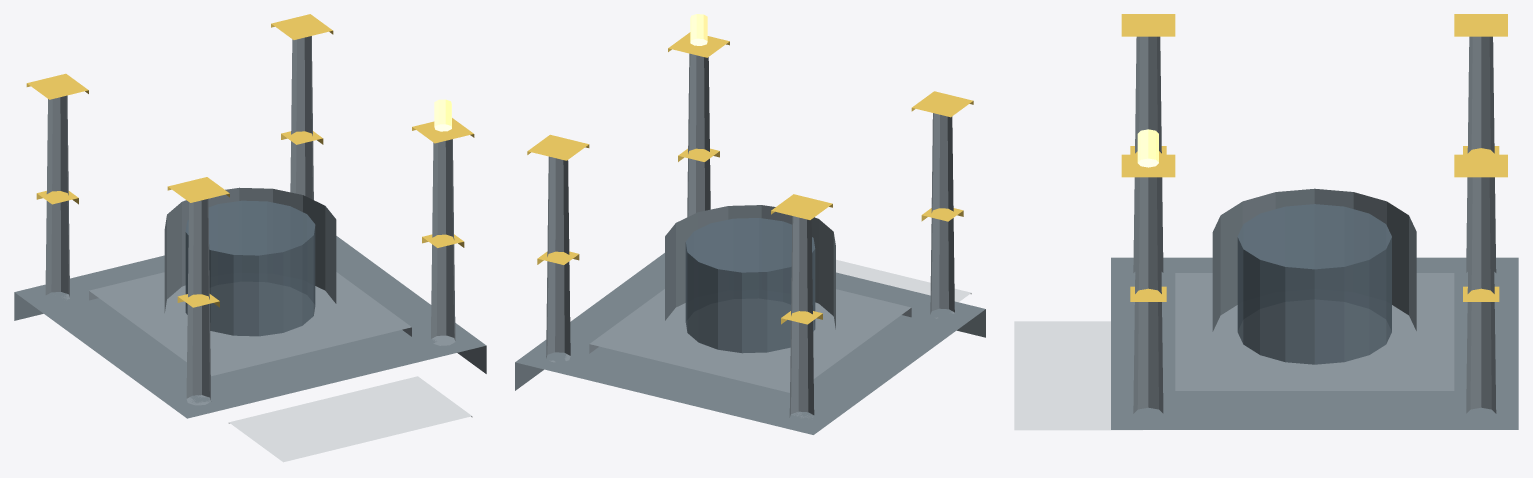
The model's file is elevator.glb.
3 views of the same model, side by side, from view 1: azimuth 30°, elevation 25°; view 2: azimuth 150°, elevation 25°; view 3: azimuth 270°, elevation 25° (orthographic). The views are drawn at different scales.
Visible parts, largest first — view 1: VH_Elevator; view 2: VH_Elevator; view 3: VH_Elevator.
Part boxes in pixels (left/top/right/bottom): VH_Elevator: left=14, top=14, right=486, bottom=462; VH_Elevator: left=515, top=14, right=985, bottom=434; VH_Elevator: left=1014, top=14, right=1518, bottom=430.
Size of the model in its own units: 3.8 by 3.23 by 4.7.
